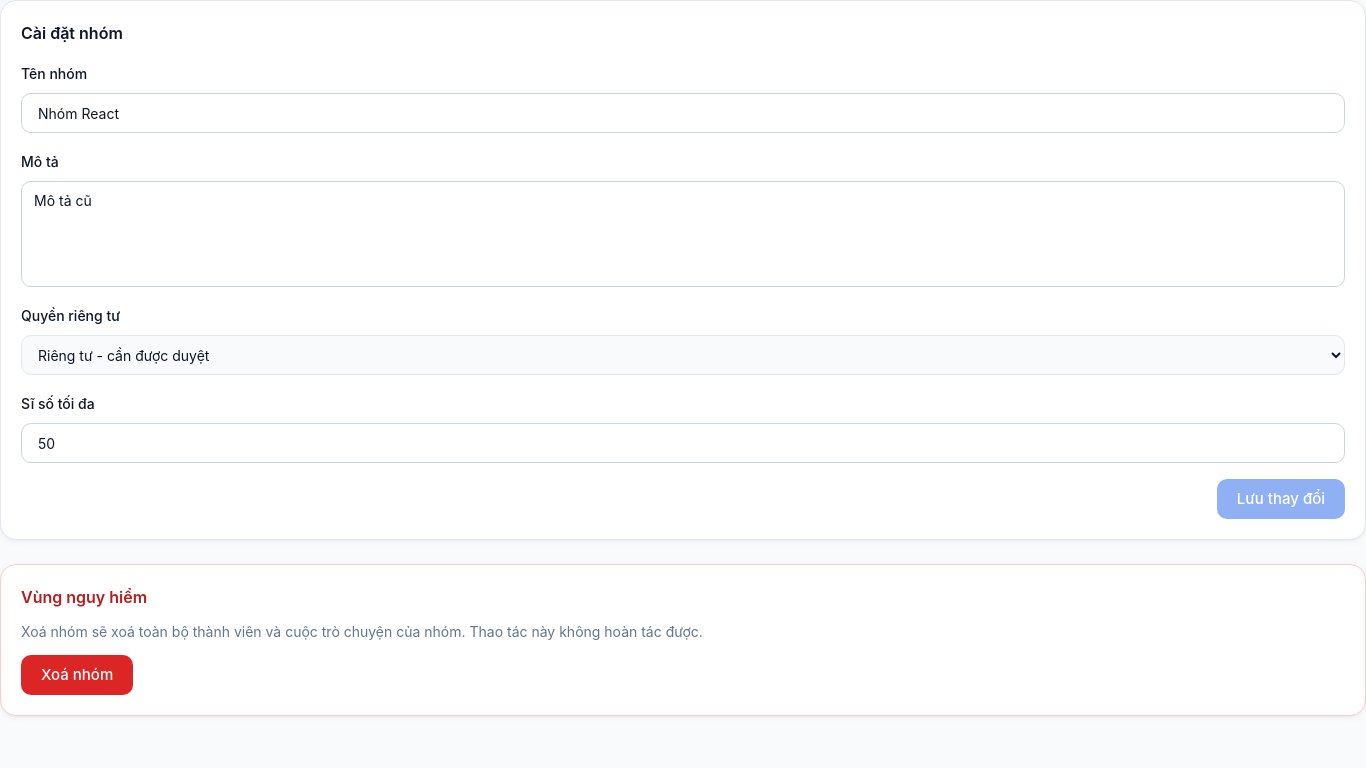
GroupSettingsForm › nút Lưu khoá khi chưa đổi gì, mở khi có thay đổi
This screenshot has width=1366, height=768.
expect the button "Lưu thay đổi" is disabled: met, box [1217,479,1345,519]
Replace the text in the field labelled "Tên nhóm" with "Nhóm Vue" at {"x": 683, "y": 113}, box [21,93,1345,133]
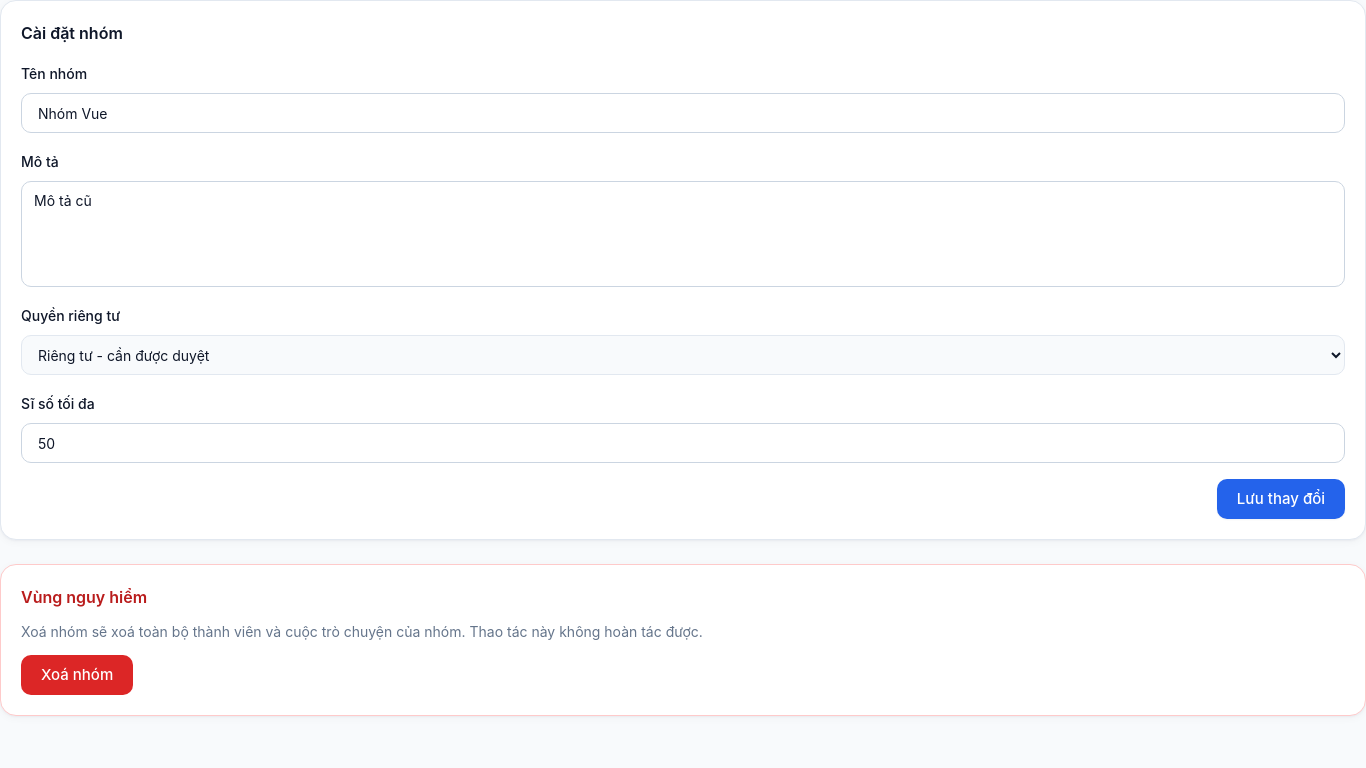
expect the button "Lưu thay đổi" is enabled: met, box [1217,479,1345,519]
